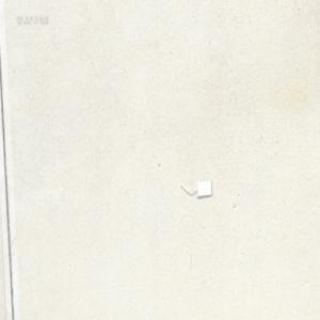LuggageTagtrack_idkeyframe: (179, 178, 212, 196)
